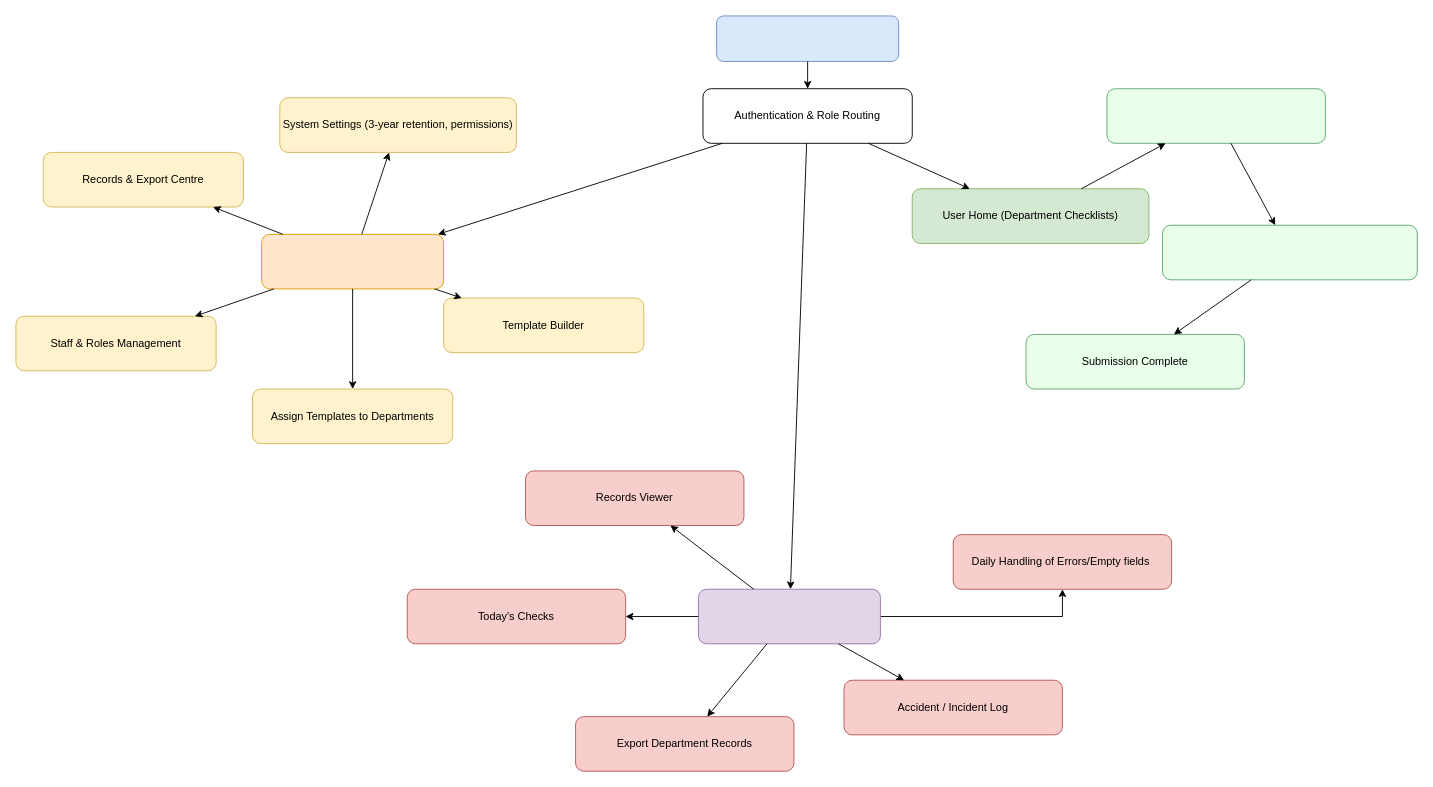
The diagram is 1433 pixels wide and 787 high, and some of its shapes have lost their labels. Each missing label, with the box of its shape:
Admin Dashboard: (261, 233, 444, 289)
Checklist Page (Yes/No, temp, notes, image): (1162, 224, 1417, 280)
Checklist Selection: (1106, 88, 1325, 143)
Login / Landing: (716, 15, 899, 61)
Manager Dashboard: (698, 588, 880, 644)
